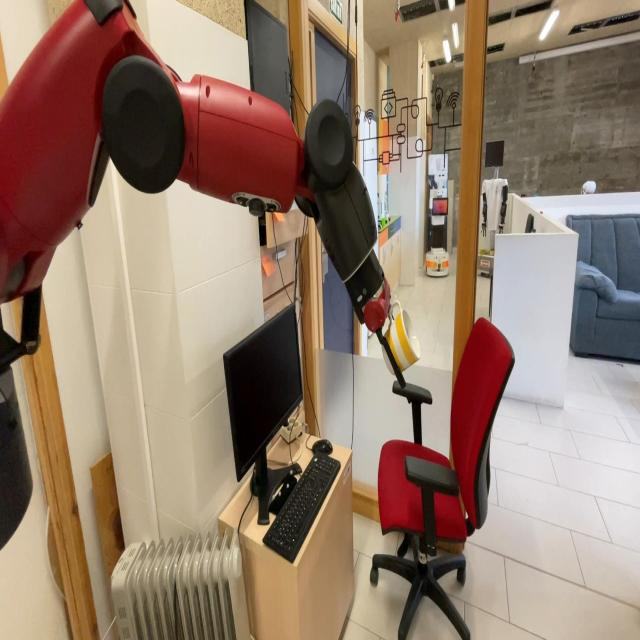cup: (380, 301, 423, 376)
